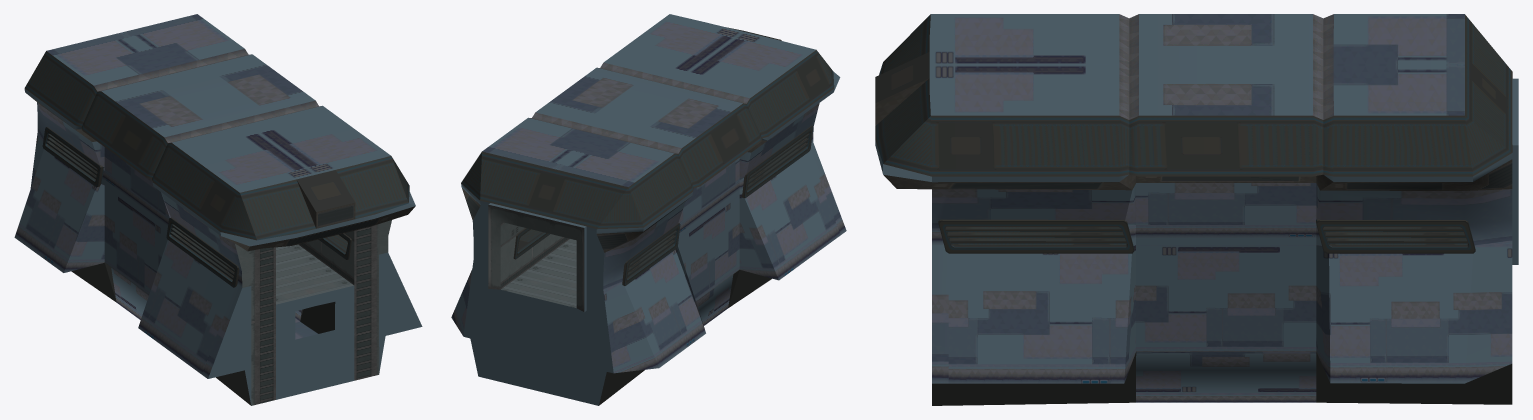
Rendered from mdlCorridorFinal.fbx.
3 views of the same model, side by side, from view 1: azimuth 30°, elevation 25°; view 2: azimuth 150°, elevation 25°; view 3: azimuth 270°, elevation 25° (orthographic). The views are drawn at different scales.
Visible parts, largest first — view 1: Corridor.001; view 2: Corridor.001; view 3: Corridor.001.
Part boxes in pixels (bbox=[...]): Corridor.001: bbox=[14, 14, 422, 405]; Corridor.001: bbox=[451, 14, 846, 405]; Corridor.001: bbox=[875, 14, 1518, 405].
Size of the model in its own units: 11412 by 10994 by 21505.
